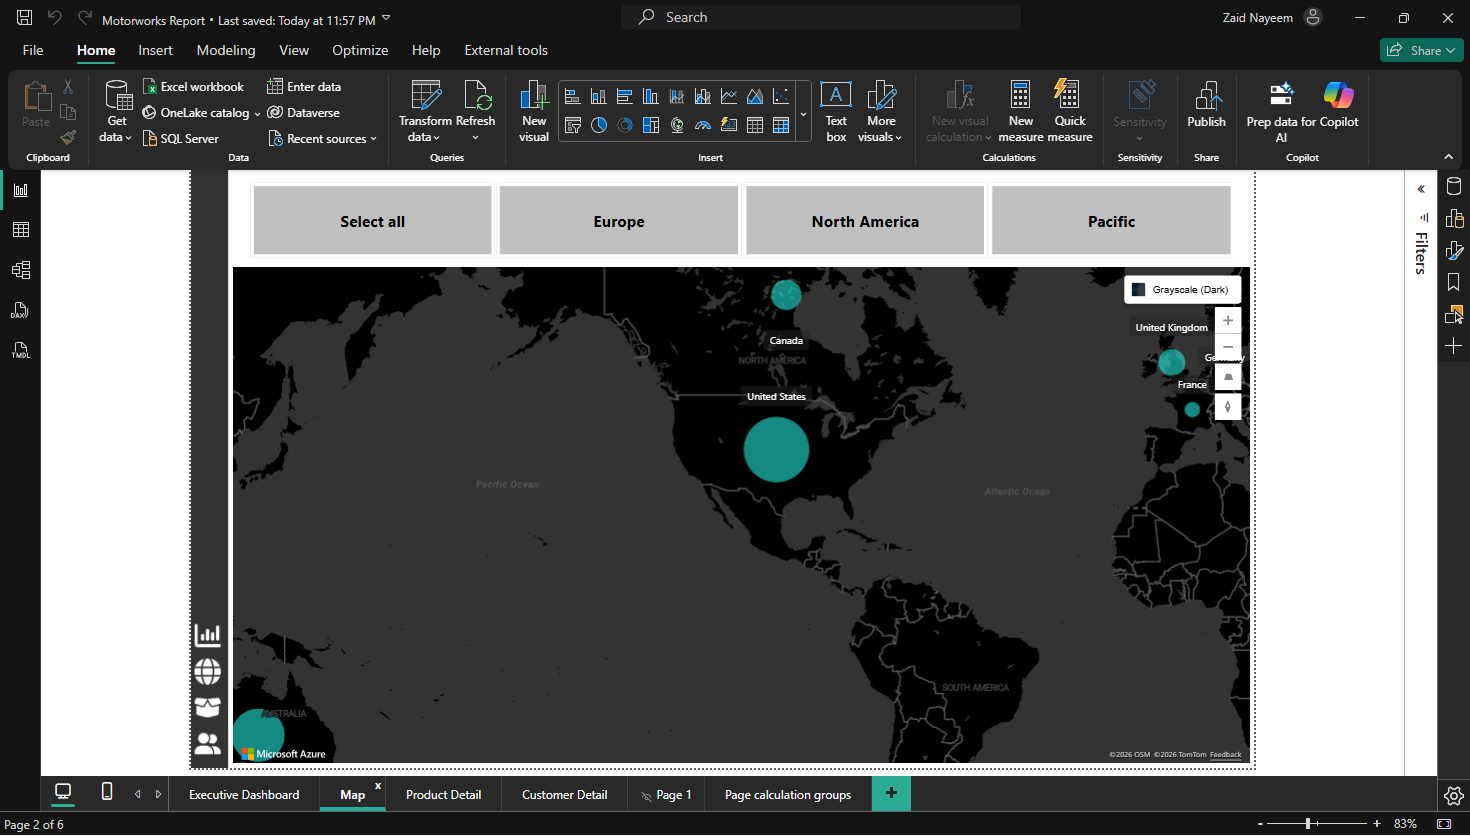

This screenshot's page, from the dashboard's own definition file:
{"tool":"powerbi","page":{"name":"Map","canvas":[1280,720],"ordinal":1},"visuals":[{"type":"shape","box":[0,0,45,720],"z":0},{"type":"azureMap","fields":{"Category":["Territory Lookup.Country"],"Size":["Measures Table.Total Orders"]},"box":[46,112.3,1234,607.4],"z":1000},{"type":"slicer","fields":{"Values":["Territory Lookup.Continent"]},"box":[46,7.9,1234,104.4],"z":2000},{"type":"actionButton","box":[0,540,45.6,40],"z":2001},{"type":"actionButton","box":[0,583.7,45.6,40],"z":2002},{"type":"actionButton","box":[0,627.4,45.6,40],"z":2003},{"type":"actionButton","box":[0,671.1,45.6,40],"z":2004}]}

Visuals, with their boxes on the page's 1280x720 design canvas (x1, y1, x2, y2). These are canvas units, not pixel positions in the 1470x836 screenshot, which may show the page scaled, cropped or inside an application window:
shape: crop(0, 0, 45, 720)
azureMap - Territory Lookup.Country x Measures Table.Total Orders: crop(46, 112, 1280, 720)
slicer - Territory Lookup.Continent: crop(46, 8, 1280, 112)
actionButton: crop(0, 540, 46, 580)
actionButton: crop(0, 584, 46, 624)
actionButton: crop(0, 627, 46, 667)
actionButton: crop(0, 671, 46, 711)
